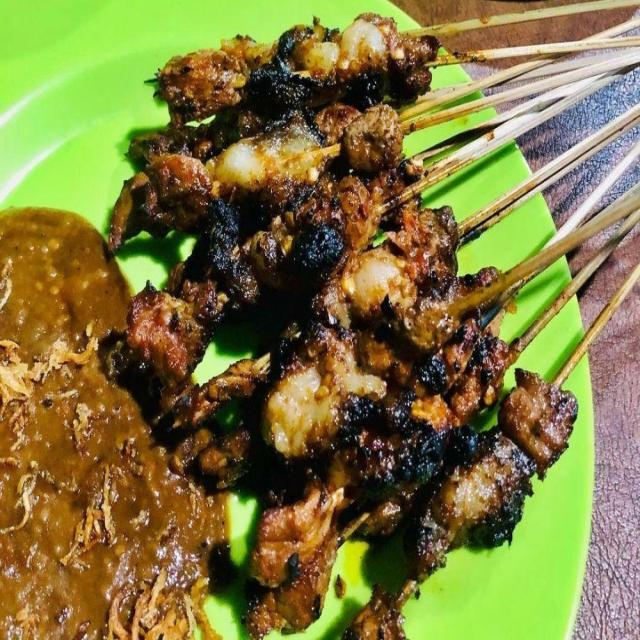Sate: (172, 48, 613, 557)
